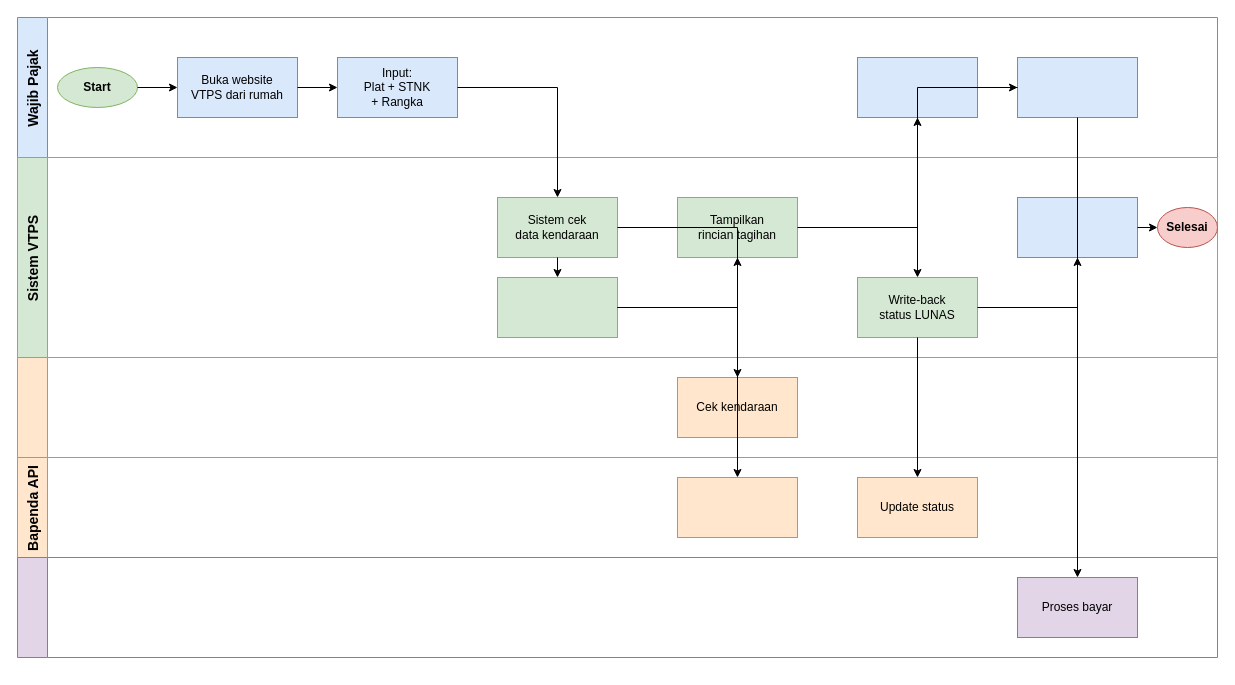
Some shapes in this 1235 by 685 pixel diagram are drawn without their labels. Each missing label, with the box of its shape:
Bayar online: (1016, 56, 1138, 118)
Cek tagihan: (676, 476, 798, 538)
Payment Gateway: (16, 556, 1218, 658)
Pilih metode bayar: (856, 56, 978, 118)
Polri API: (16, 356, 1218, 458)
Sistem cek tagihan pajak: (496, 276, 618, 338)
Terima e-TBPKP: (1016, 196, 1138, 258)
